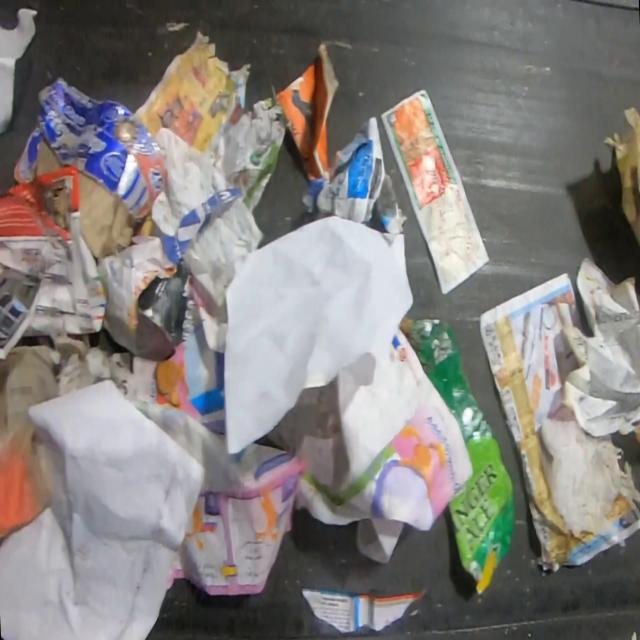cardboard: (398, 314, 516, 596), (12, 74, 168, 259), (272, 40, 340, 184)
soft_plastic: (538, 410, 640, 548)
